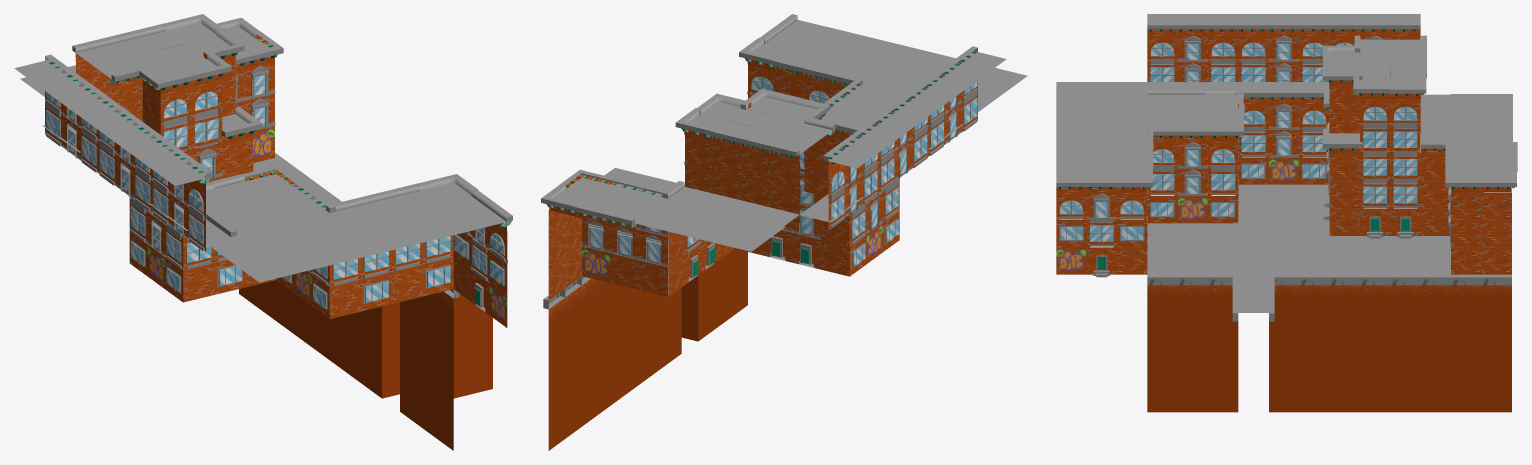
Rendered from kamer_004.fbx.
3 views of the same model, side by side, from view 1: azimuth 30°, elevation 25°; view 2: azimuth 150°, elevation 25°; view 3: azimuth 270°, elevation 25° (orthographic). The views are drawn at different scales.
Visible parts, largest first — view 1: Plane.794, Plane.989, Plane.793, Plane.855, Plane.891, Plane.851, Plane.997, Plane.799, Plane.935, Plane.994, Plane.1003, Plane.1012 (+117 smaller); view 2: Plane.989, Plane.855, Plane.793, Plane.854, Plane.896, Plane.861, Plane.901, Plane.839, Plane.885, Plane.897, Plane.899, Plane.786 (+125 smaller); view 3: Plane.986, Plane.823, Plane.824, Plane.923, Plane.691, Plane.695, Plane.806, Plane.857, Plane.906, Plane.689, Plane.694, Plane.800 (+154 smaller).
Boxes of the visible parts, box(x1,y1,x2,y2) form: Plane.794: box(137, 65, 194, 94); Plane.989: box(417, 174, 478, 203); Plane.793: box(173, 49, 231, 85); Plane.855: box(163, 14, 224, 43); Plane.891: box(244, 61, 275, 100); Plane.851: box(191, 111, 222, 151); Plane.997: box(360, 271, 391, 311); Plane.799: box(222, 136, 253, 175); Plane.935: box(183, 262, 214, 302); Plane.994: box(422, 256, 453, 296); Plane.1003: box(391, 264, 422, 303); Plane.1012: box(329, 279, 360, 318); Plane.989: box(739, 37, 793, 71); Plane.855: box(675, 108, 729, 141); Plane.793: box(740, 88, 796, 115); Plane.854: box(697, 93, 751, 121); Plane.896: box(610, 253, 639, 289); Plane.861: box(742, 149, 771, 185); Plane.901: box(541, 185, 593, 216); Plane.839: box(713, 142, 742, 178); Plane.885: box(559, 170, 613, 196); Plane.897: box(639, 230, 668, 266); Plane.899: box(639, 260, 667, 296); Plane.786: box(821, 239, 849, 276); Plane.986: box(1086, 247, 1116, 277); Plane.823: box(1360, 208, 1390, 238); Plane.824: box(1390, 208, 1420, 238); Plane.923: box(1177, 140, 1207, 169); Plane.691: box(1147, 274, 1177, 302); Plane.695: box(1299, 274, 1329, 302); Plane.806: box(1390, 274, 1420, 302); Plane.857: box(1451, 274, 1481, 302); Plane.906: box(1451, 219, 1481, 247); Plane.689: box(1177, 274, 1207, 302); Plane.694: box(1329, 274, 1359, 302); Plane.800: box(1360, 274, 1390, 302).
Bounding box in the file's own units: 1200 × 1043 × 1519.
